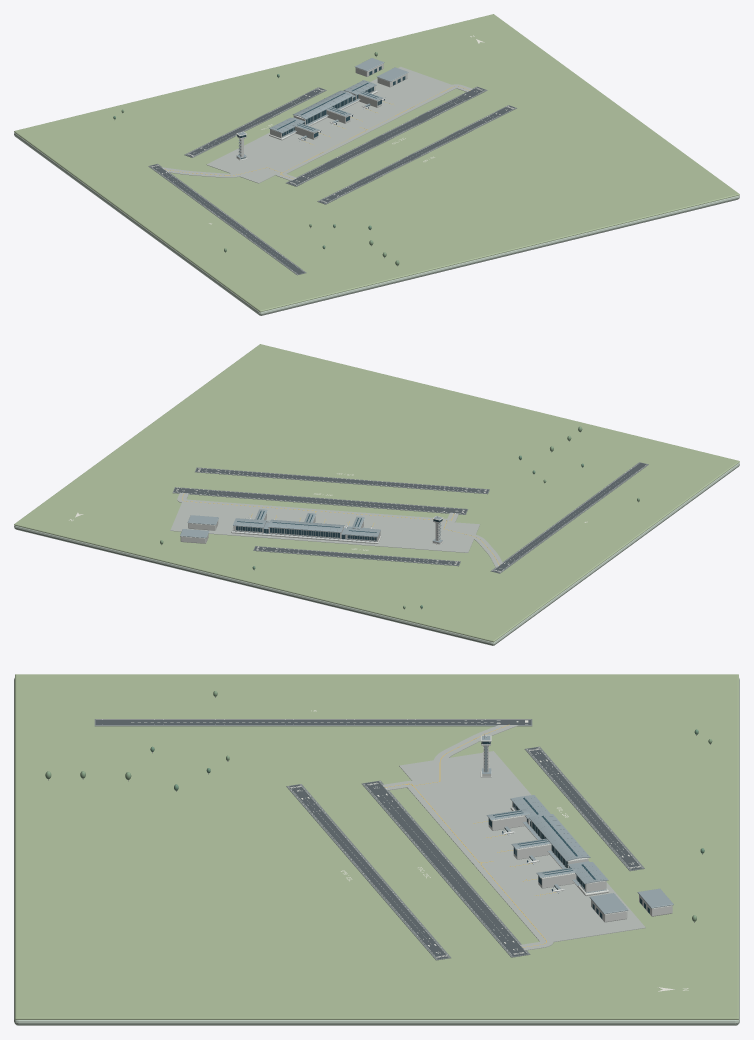
The model's file is airport-environment.glb.
3 renders of one model, top to bottom at view 1: azimuth 30°, elevation 25°; view 2: azimuth 150°, elevation 25°; view 3: azimuth 270°, elevation 25°, orthographic. The views are drawn at different scales.
Parts seen in each view (by area): view 1: Landscape.Landscape, Surface.TaxiApron.Apron, Landscape.Diorama, Runway.center.Runway, Runway.south.Runway, Runway.west.Runway, Runway.north.Runway, Runway.south.Shoulder, Runway.center.Shoulder, Terminal hall volume 2.Roof, Runway.west.Shoulder; view 2: Landscape.Landscape, Surface.TaxiApron.Apron, Landscape.Diorama, Runway.center.Runway, Runway.south.Runway, Runway.west.Runway, Runway.north.Runway, Runway.south.Shoulder, Runway.center.Shoulder, Terminal hall volume 2.Roof, Runway.west.Shoulder, Runway.north.Shoulder; view 3: Landscape.Landscape, Surface.TaxiApron.Apron, Landscape.Diorama, Runway.center.Runway, Runway.south.Runway, Runway.west.Runway, Runway.north.Runway, Runway.west.Shoulder, Terminal hall volume 2.Roof, Runway.south.Shoulder, Runway.center.Shoulder, Runway.north.Shoulder (+1 smaller).
Boxes of the visible parts, left/top/right/bottom form: Landscape.Landscape: left=14, top=14, right=739, bottom=312; Surface.TaxiApron.Apron: left=161, top=66, right=472, bottom=183; Landscape.Diorama: left=14, top=132, right=739, bottom=315; Runway.center.Runway: left=287, top=87, right=485, bottom=185; Runway.south.Runway: left=319, top=105, right=514, bottom=203; Runway.west.Runway: left=150, top=164, right=304, bottom=274; Runway.north.Runway: left=186, top=88, right=324, bottom=156; Runway.south.Shoulder: left=317, top=105, right=516, bottom=204; Runway.center.Shoulder: left=286, top=86, right=487, bottom=186; Terminal hall volume 2.Roof: left=293, top=90, right=353, bottom=119; Runway.west.Shoulder: left=148, top=163, right=306, bottom=275; Landscape.Landscape: left=14, top=344, right=739, bottom=642; Surface.TaxiApron.Apron: left=170, top=492, right=502, bottom=567; Landscape.Diorama: left=14, top=462, right=739, bottom=645; Runway.center.Runway: left=173, top=487, right=466, bottom=513; Runway.south.Runway: left=195, top=468, right=488, bottom=493; Runway.west.Runway: left=492, top=462, right=646, bottom=572; Runway.north.Runway: left=254, top=546, right=459, bottom=565; Runway.south.Shoulder: left=195, top=467, right=489, bottom=494; Runway.center.Shoulder: left=172, top=487, right=467, bottom=514; Terminal hall volume 2.Roof: left=268, top=519, right=344, bottom=538; Runway.west.Shoulder: left=490, top=462, right=648, bottom=573; Runway.north.Shoulder: left=253, top=546, right=460, bottom=566; Landscape.Landscape: left=15, top=674, right=738, bottom=1019; Surface.TaxiApron.Apron: left=383, top=725, right=645, bottom=950; Landscape.Diorama: left=14, top=678, right=739, bottom=1025; Runway.center.Runway: left=364, top=781, right=527, bottom=956; Runway.south.Runway: left=289, top=784, right=448, bottom=959; Runway.west.Runway: left=95, top=720, right=531, bottom=724; Runway.north.Runway: left=527, top=747, right=642, bottom=869; Runway.west.Shoulder: left=94, top=719, right=532, bottom=726; Terminal hall volume 2.Roof: left=529, top=813, right=590, bottom=867; Runway.south.Shoulder: left=286, top=784, right=450, bottom=960; Runway.center.Shoulder: left=361, top=780, right=530, bottom=957; Runway.north.Shoulder: left=524, top=746, right=644, bottom=871.
Size of the model in its own units: 900 by 61.05 by 800.
